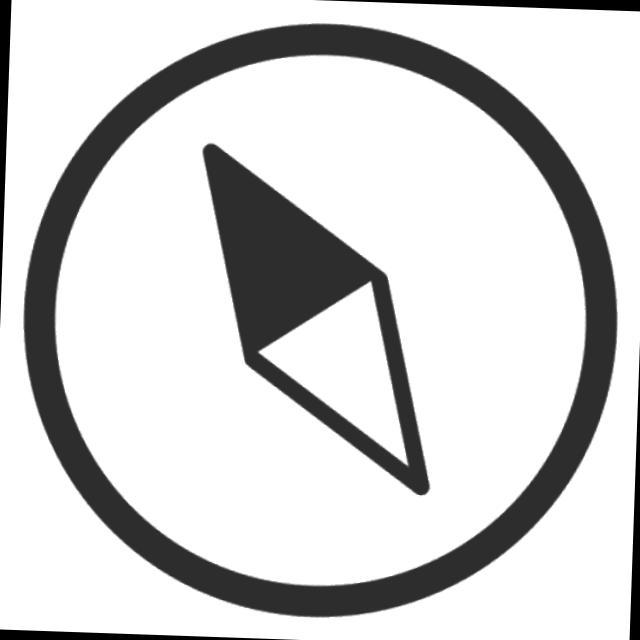compass: (3, 5, 638, 640)
